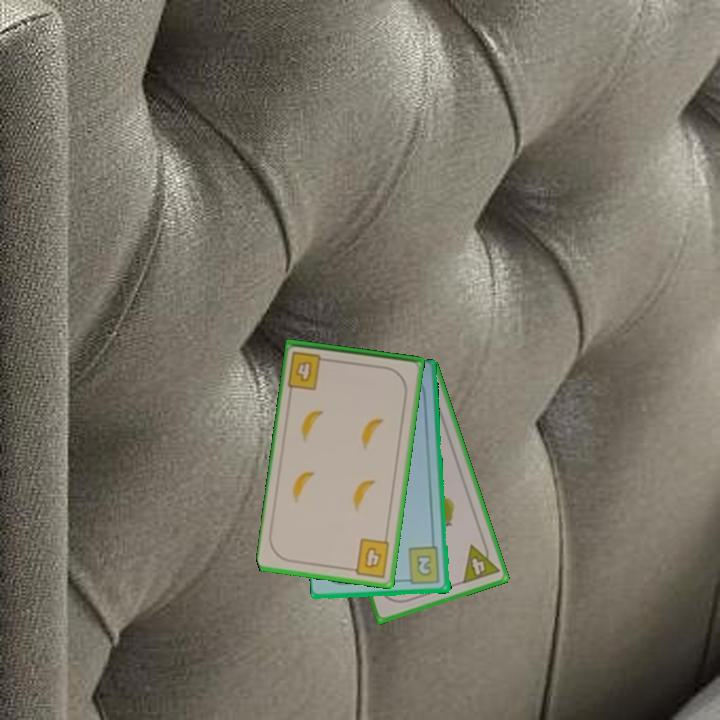2b: (401, 544, 443, 587)
4b: (285, 348, 333, 393), (346, 535, 393, 580)
4p: (459, 537, 502, 587)
